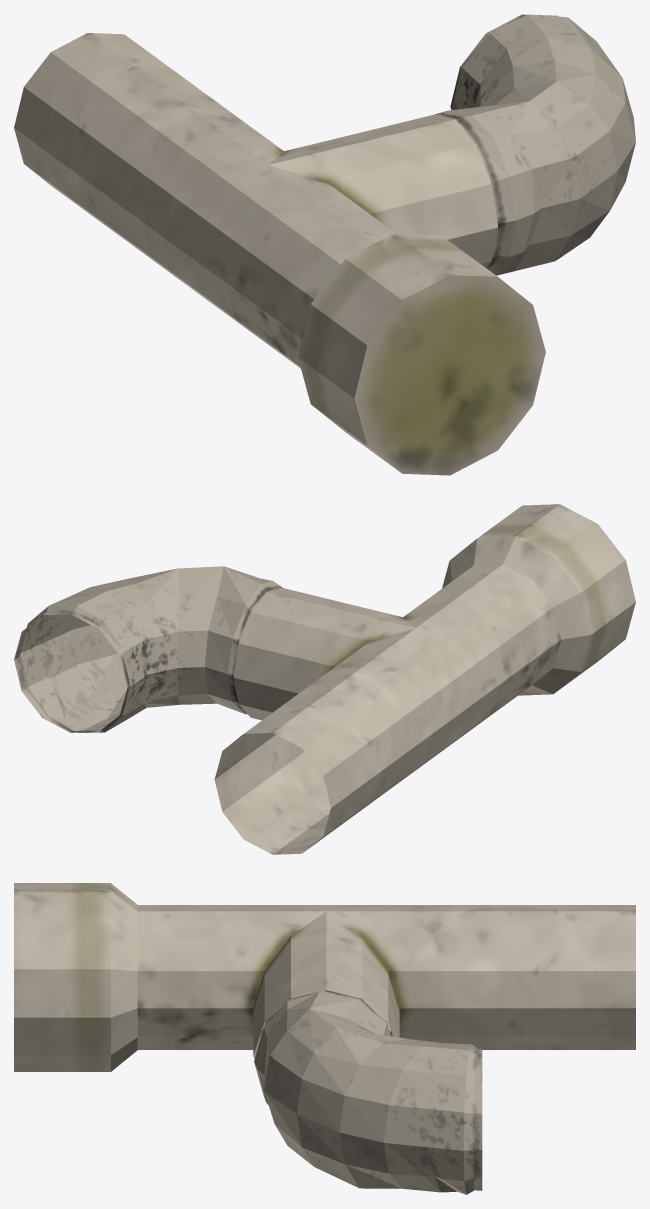
Rendered from Pipe Piece.FBX.
3 renders of one model, top to bottom at view 1: azimuth 30°, elevation 25°; view 2: azimuth 150°, elevation 25°; view 3: azimuth 270°, elevation 25°, orthographic. The views are drawn at different scales.
Visible parts, largest first — view 1: Object003; view 2: Object003; view 3: Object003.
Part boxes in pixels (x1,y1,x2,y2): Object003: (14, 14, 635, 475); Object003: (14, 504, 635, 854); Object003: (14, 883, 635, 1194).
Size of the model in its own units: 184 by 68.44 by 224.
Materials: 1 (1 with a texture image).
